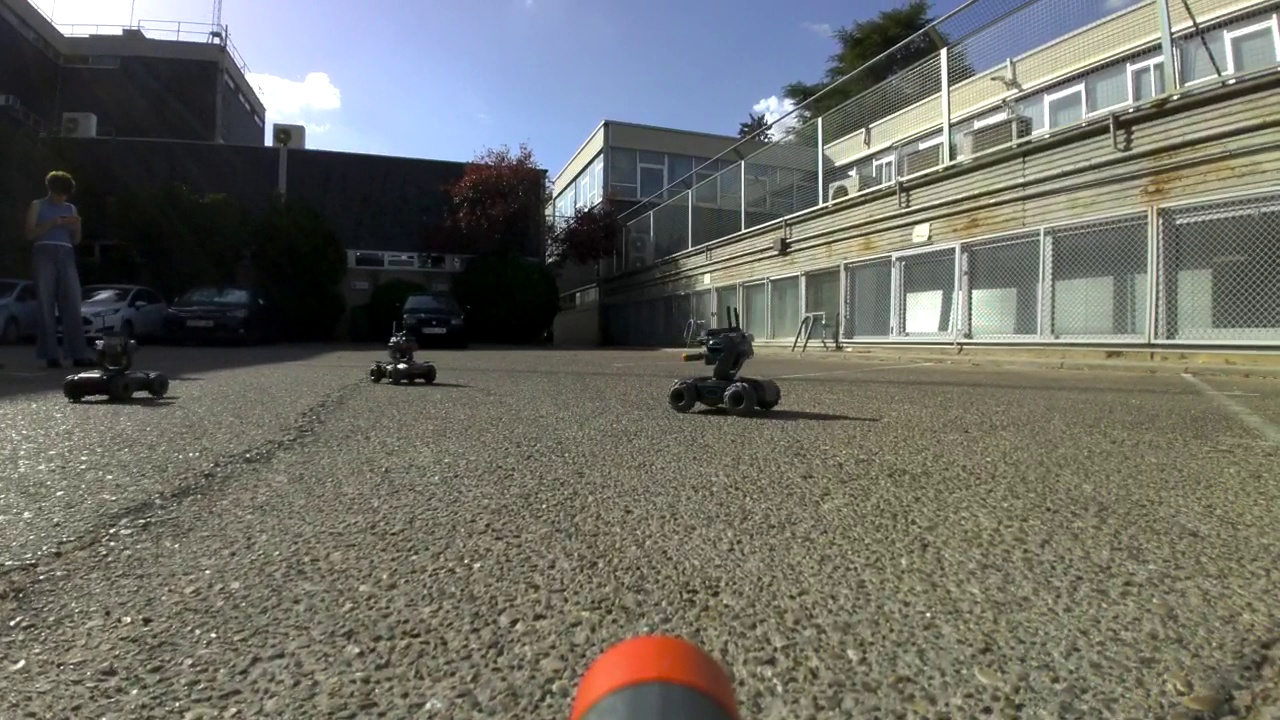robot: (669, 303, 782, 418), (64, 312, 169, 404), (369, 318, 436, 389)
